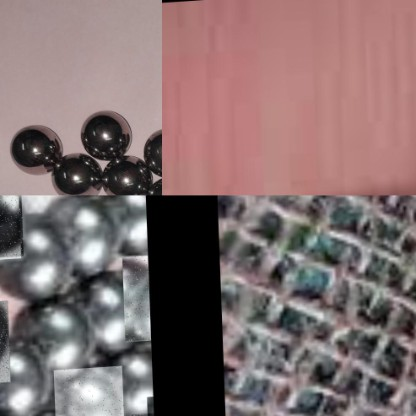ironball: (13, 300, 100, 378), (74, 270, 150, 353), (44, 194, 121, 269), (0, 229, 67, 298), (0, 336, 47, 414), (94, 196, 148, 259), (3, 120, 65, 171), (51, 370, 121, 415), (103, 351, 151, 414), (49, 150, 108, 195), (80, 109, 131, 158), (120, 260, 149, 346), (103, 151, 154, 194), (140, 125, 161, 176)
